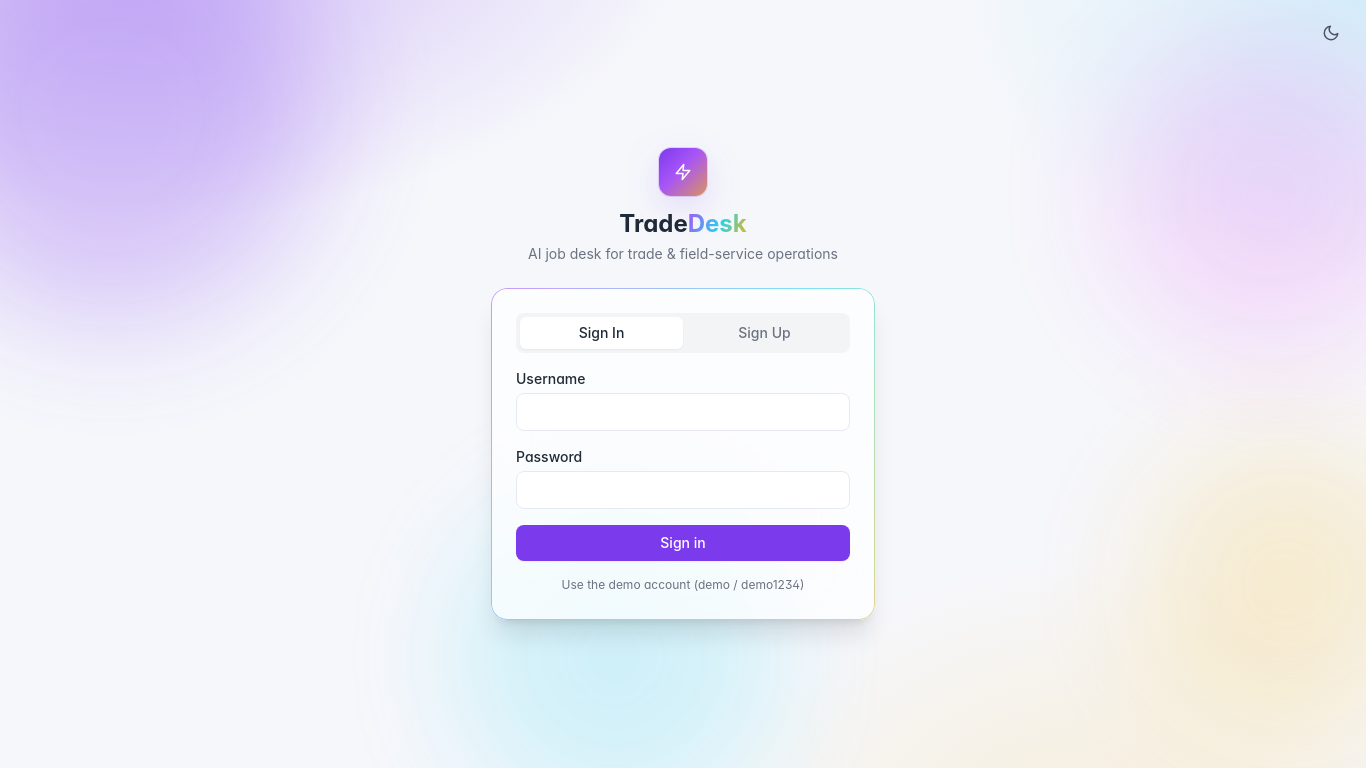
Test: Login › prefills the demo account
Step 1. Click the button "Use the demo account (demo / demo1234)" → (683, 585), box [516,577,850,593]
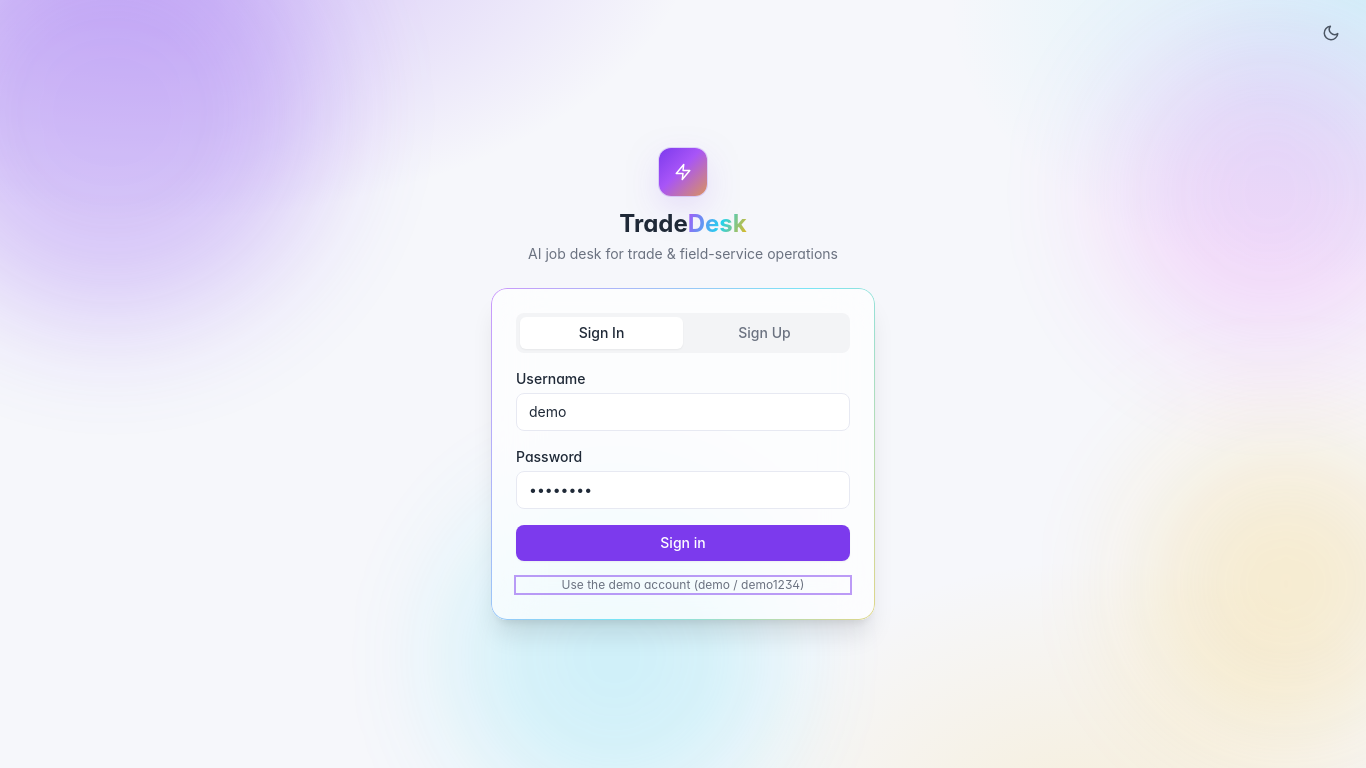
expect the field labelled "Username" holds "demo": met, box [516,393,850,431]
expect the password field labelled "Password" holds "demo1234": met, box [516,471,850,509]
